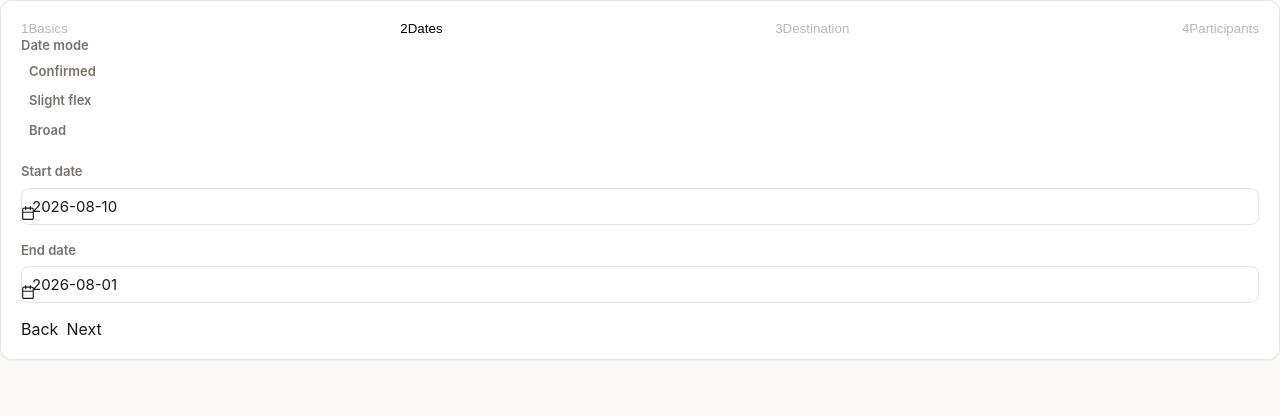
Test: TripWizard › rejects end date before start date on step 2
The image size is (1280, 416).
Click the button with test id "wizard-next" at (84, 329), box [66, 319, 102, 339]
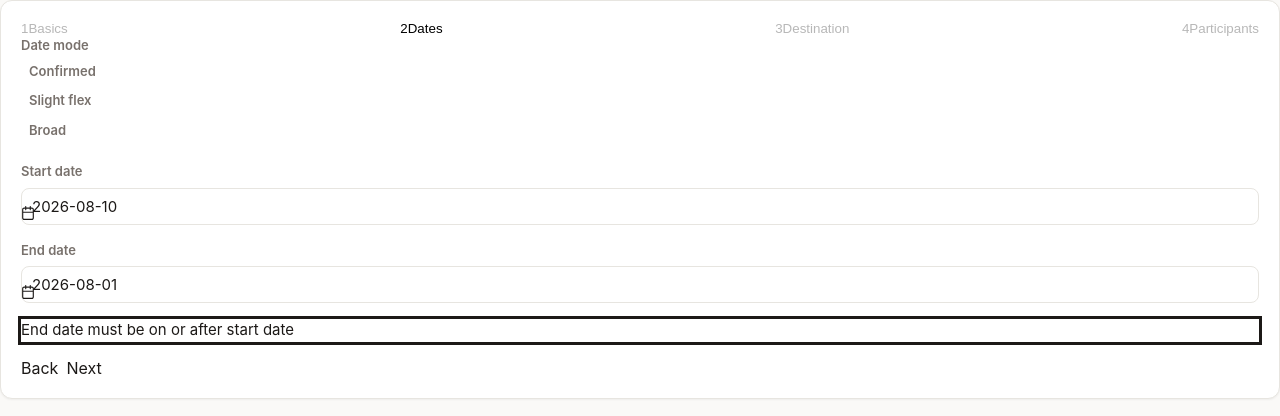
Expected: the text "End date must be on or after start date" is shown, [21, 319, 294, 342]
